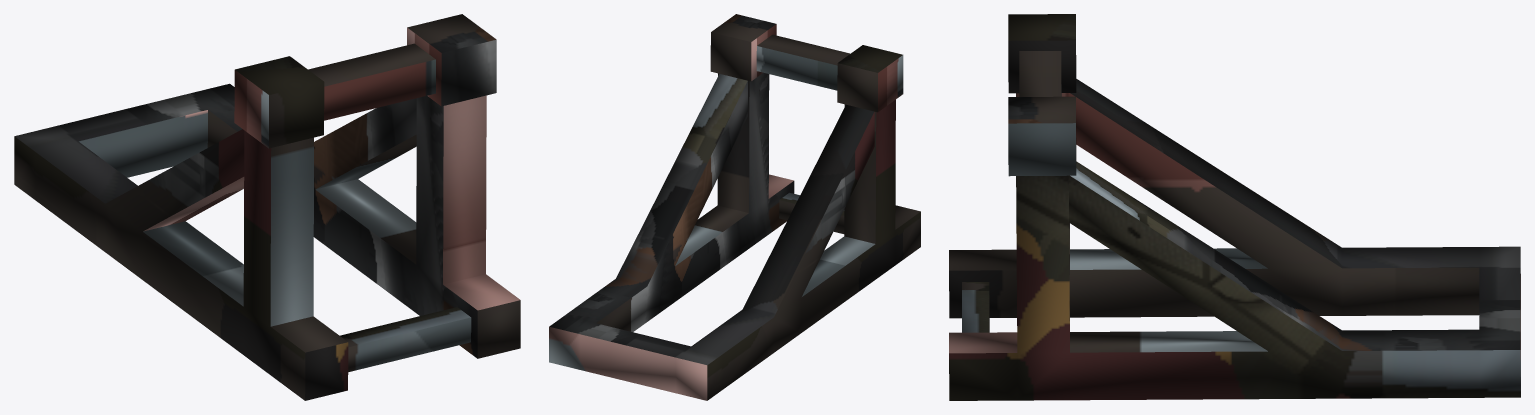
Rendered from CatapultFPV.fbx.
3 renders of one model, left to right at view 1: azimuth 30°, elevation 25°; view 2: azimuth 150°, elevation 25°; view 3: azimuth 270°, elevation 25°, orthographic. The views are drawn at different scales.
Parts seen in each view (by area): view 1: BodyNoArmor.044; view 2: BodyNoArmor.044; view 3: BodyNoArmor.044.
Part boxes in pixels (box(x1,y1,x2,y2)): BodyNoArmor.044: box(14, 14, 520, 400); BodyNoArmor.044: box(549, 14, 920, 400); BodyNoArmor.044: box(949, 14, 1520, 400).
Bounding box in the file's own units: 0.2262 × 0.2713 × 0.5009.
